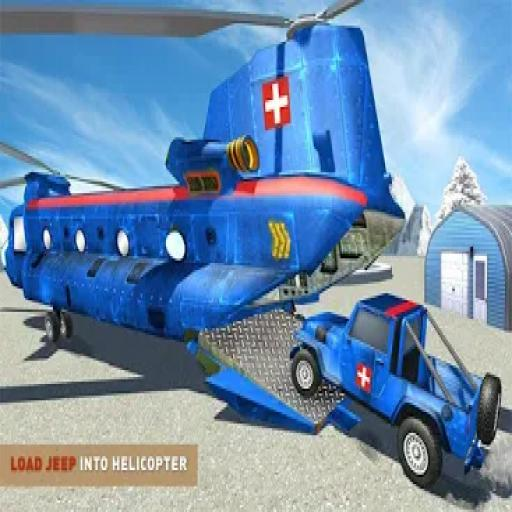helicopter: (3, 4, 392, 446)
